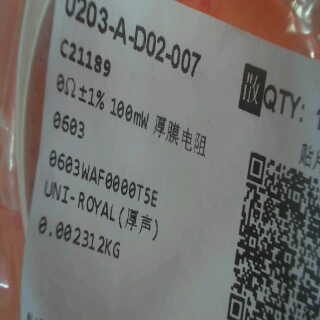0R: (43, 66, 106, 142)
